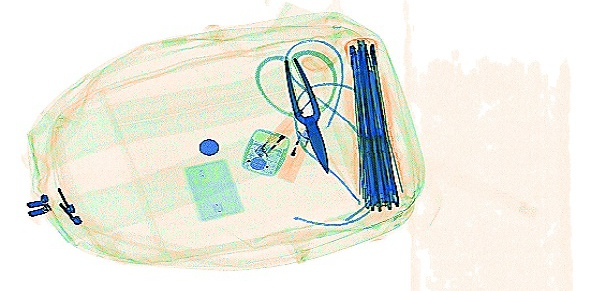lighter: (253, 112, 302, 161), (274, 125, 312, 184)
scissors: (254, 47, 337, 173)
